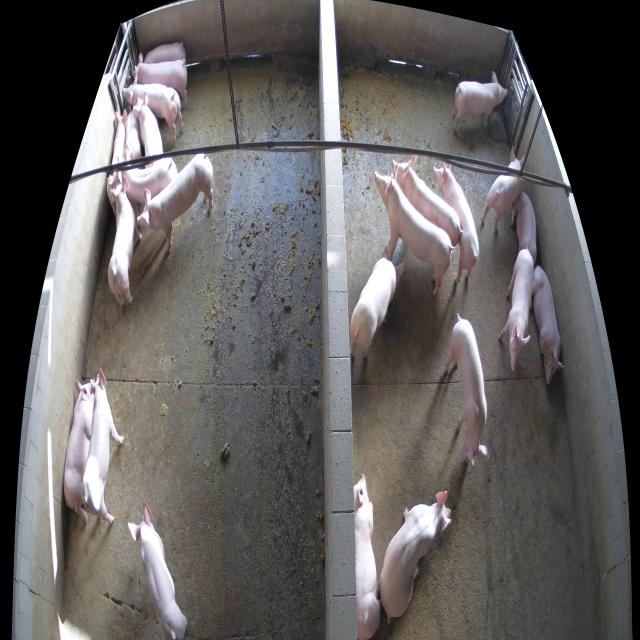pig: (375, 165, 454, 295), (379, 490, 452, 621), (128, 499, 187, 639), (138, 154, 214, 253), (80, 367, 124, 523), (446, 312, 488, 465), (392, 154, 460, 246), (350, 247, 404, 360), (433, 160, 479, 283), (354, 474, 381, 639), (108, 175, 142, 306), (63, 380, 94, 523), (498, 249, 534, 372), (123, 75, 183, 144), (480, 145, 525, 235), (532, 267, 563, 383), (453, 71, 508, 130), (134, 53, 188, 103), (123, 158, 178, 203), (133, 90, 164, 169), (107, 108, 127, 218), (511, 192, 537, 267), (146, 41, 186, 64), (125, 105, 142, 158)
